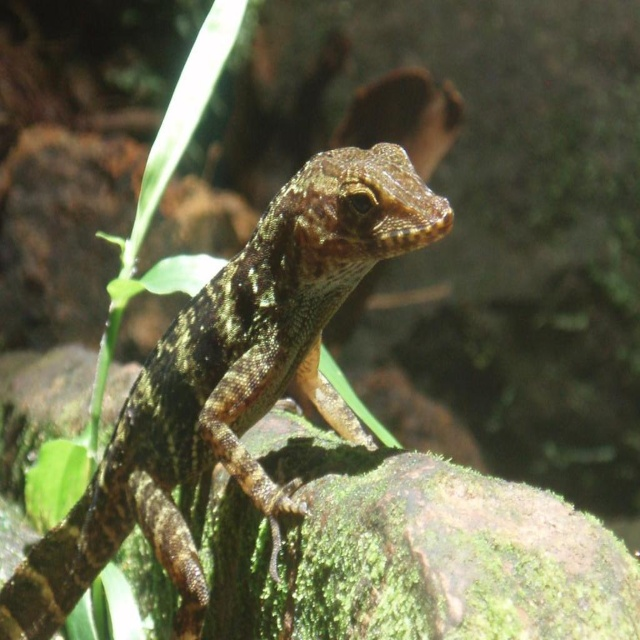Lizard: (0, 142, 454, 640)
